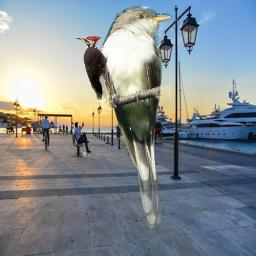Cuckoo: (100, 5, 173, 230)
Woodpecker: (74, 36, 108, 100)
